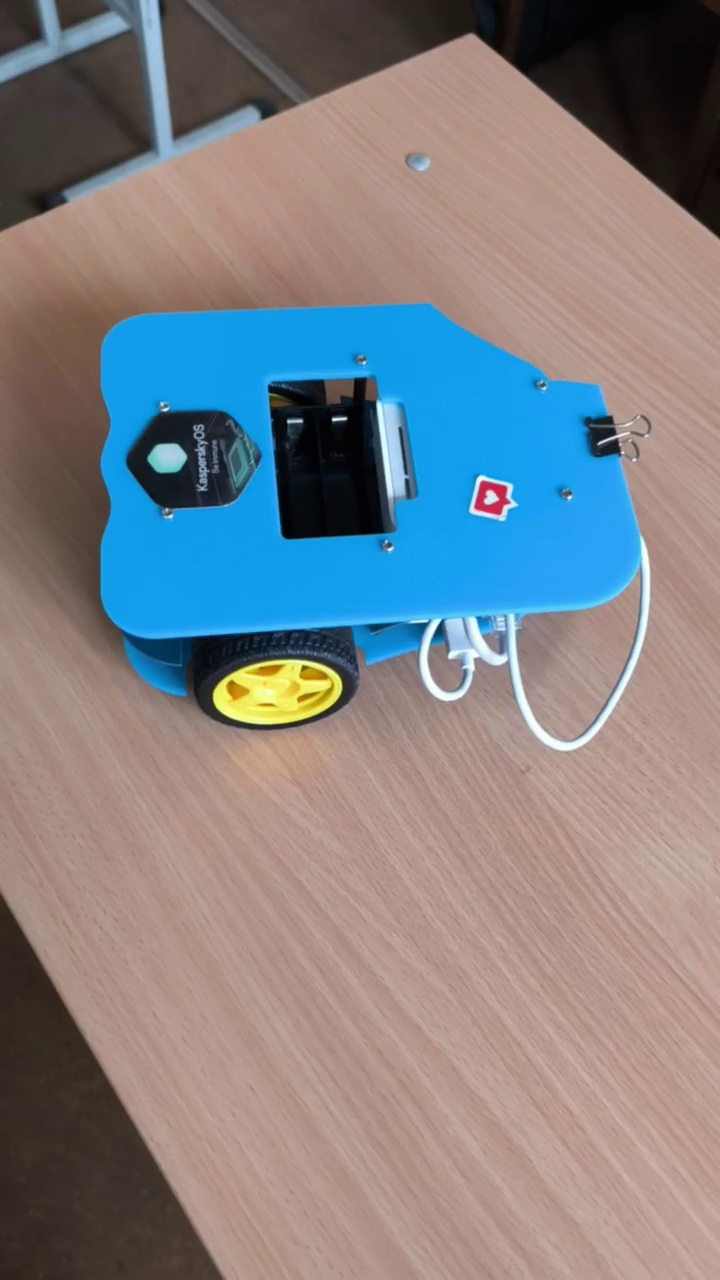robot: (97, 302, 655, 752)
